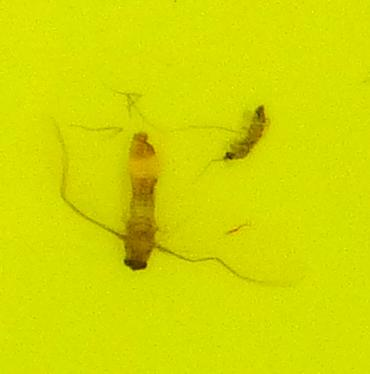Ephemeroptera: (100, 127, 176, 274)
Nematocera: (221, 100, 270, 166)
